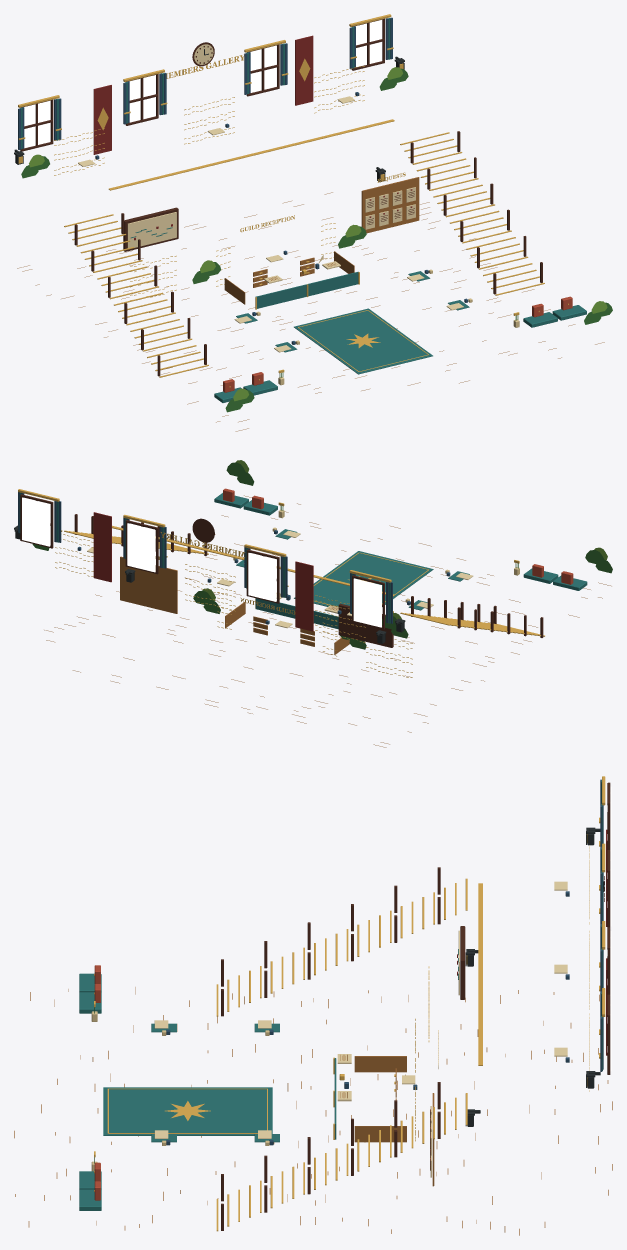
Rendered from SM_Guild_Details_Detailed.fbx.
The picture shows the model from 3 angles, top to bottom: view 1: azimuth 30°, elevation 25°; view 2: azimuth 150°, elevation 25°; view 3: azimuth 270°, elevation 25°; orthographic projection. The views are drawn at different scales.
Visible parts, largest first — view 1: EntranceRug, QuestCork, CounterInlay, GuildMapPaper, HangingBanner.002, HangingBanner.003, WarmWindow, WarmWindow.001, WarmWindow.002, WarmWindow.003, GalleryRailGold; view 2: EntranceRug, QuestCork, HangingBanner.002, HangingBanner.003, WarmWindow.002, WarmWindow.001, WarmWindow.003, WarmWindow, GuildMapFrame, CounterInlay, GalleryRailGold, ClockRim; view 3: EntranceRug, GalleryRailGold, PanelInset, PanelInset.001.
Part boxes in pixels (left/top/right/bottom): EntranceRug: left=294, top=308, right=432, bottom=374; QuestCork: left=361, top=177, right=419, bottom=233; CounterInlay: left=255, top=271, right=358, bottom=308; GuildMapPaper: left=127, top=212, right=176, bottom=247; HangingBanner.002: left=93, top=85, right=111, bottom=154; HangingBanner.003: left=295, top=35, right=313, bottom=105; WarmWindow: left=24, top=101, right=50, bottom=147; WarmWindow.001: left=129, top=75, right=155, bottom=122; WarmWindow.002: left=250, top=45, right=276, bottom=92; WarmWindow.003: left=355, top=20, right=381, bottom=66; GalleryRailGold: left=108, top=119, right=394, bottom=190; EntranceRug: left=294, top=551, right=433, bottom=607; QuestCork: left=120, top=556, right=177, bottom=613; HangingBanner.002: left=295, top=561, right=313, bottom=631; HangingBanner.003: left=93, top=512, right=111, bottom=582; WarmWindow.002: left=127, top=523, right=155, bottom=572; WarmWindow.001: left=248, top=553, right=276, bottom=601; WarmWindow.003: left=22, top=497, right=50, bottom=546; WarmWindow: left=353, top=578, right=381, bottom=627; GuildMapFrame: left=338, top=603, right=393, bottom=647; CounterInlay: left=255, top=598, right=338, bottom=629; GalleryRailGold: left=112, top=525, right=394, bottom=596; ClockRim: left=192, top=518, right=214, bottom=542; EntranceRug: left=103, top=1087, right=272, bottom=1135; GalleryRailGold: left=478, top=883, right=482, bottom=1065; PanelInset: left=354, top=1056, right=406, bottom=1072; PanelInset.001: left=354, top=1126, right=406, bottom=1142.
Bounding box in the file's own units: 1743 × 1769 × 778.
